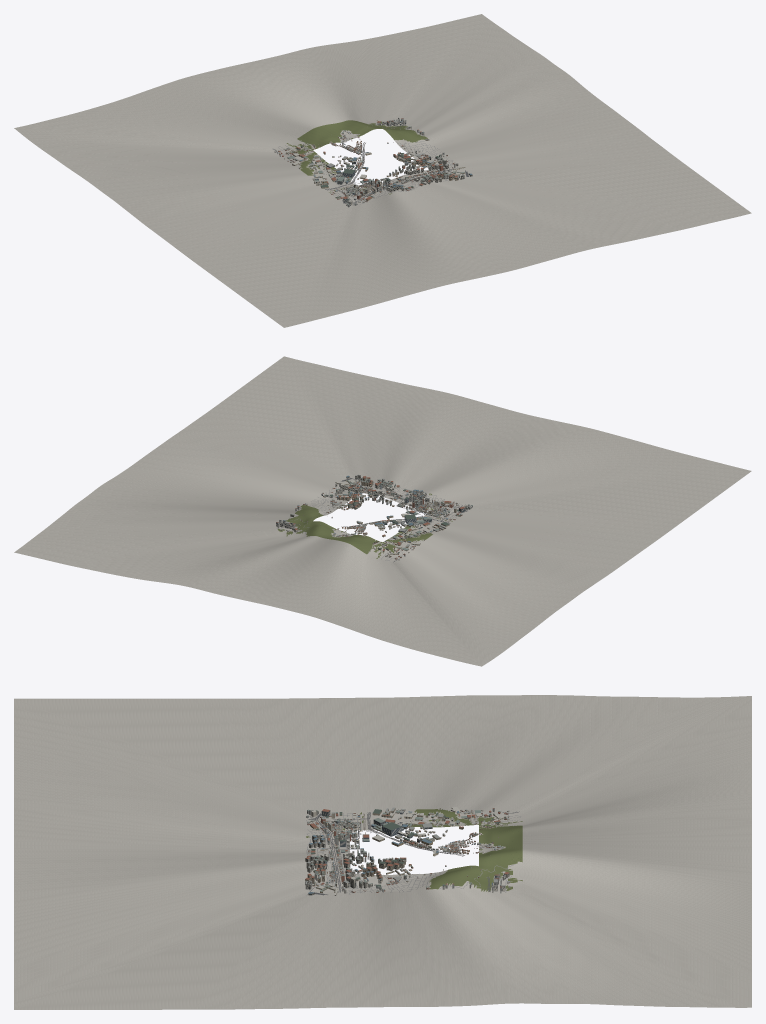
The picture shows the model from 3 angles, top to bottom: view 1: azimuth 30°, elevation 25°; view 2: azimuth 150°, elevation 25°; view 3: azimuth 270°, elevation 25°; orthographic projection. The views are drawn at different scales.
Parts seen in each view (by area): view 1: ctx-ground, ctx-buildings, ctx-streets; view 2: ctx-ground, ctx-buildings, ctx-streets; view 3: ctx-ground, ctx-buildings, ctx-streets, ctx-roads, ctx-far.
Boxes of the visible parts, x1,y1,x2,y2 form: ctx-ground: [14, 14, 751, 327]; ctx-buildings: [279, 117, 472, 204]; ctx-streets: [272, 123, 471, 204]; ctx-ground: [14, 356, 751, 666]; ctx-buildings: [276, 474, 467, 556]; ctx-streets: [276, 477, 469, 560]; ctx-ground: [14, 695, 751, 1009]; ctx-buildings: [305, 807, 510, 895]; ctx-streets: [306, 809, 520, 895]; ctx-roads: [307, 811, 519, 895]; ctx-far: [306, 808, 510, 892].
Bounding box in the file's own units: 7600 × 175 × 7600.
Materials: 27 (20 with a texture image).
